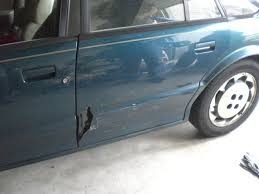Dent: (75, 105, 98, 145)
Scratch: (138, 50, 172, 75), (61, 72, 73, 87)
